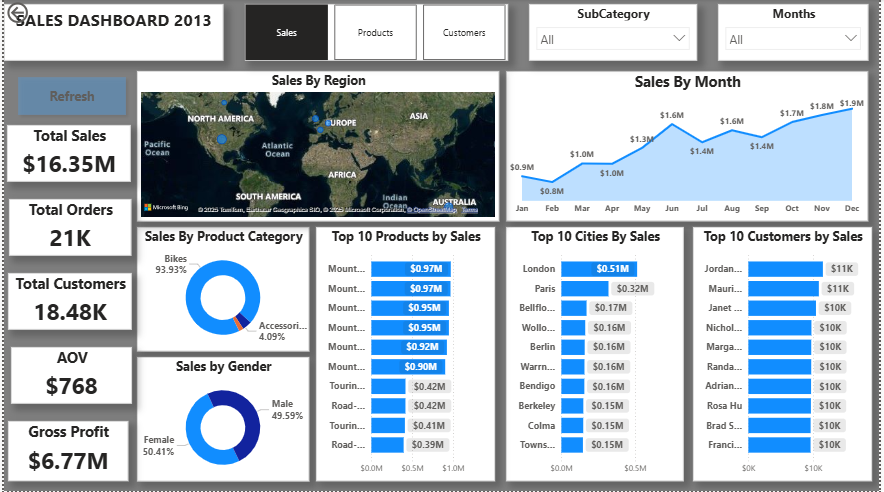

This screenshot's page, from the dashboard's own definition file:
{"tool":"powerbi","page":{"name":"Sales","canvas":[1280,720],"ordinal":0},"visuals":[{"type":"textbox","box":[0,7.4,321.5,83.3],"z":0},{"type":"areaChart","title":"Sales By Month","fields":{"Y":["FinancialCategories.Total Sales"],"Category":["DimDateCleaned.MonthShort"]},"box":[735.3,105.7,530,220],"z":1000},{"type":"donutChart","title":"Sales By Product Category","fields":{"Category":["Dimproductcleaned.ProductCategory"],"Y":["FinancialCategories.Total Sales"]},"box":[195,333.4,251.5,181.6],"z":2000},{"type":"barChart","title":"Top 10 Cities By Sales","fields":{"Category":["DimCustomerCleaned.City"],"Y":["FinancialCategories.Total Sales"]},"box":[735.3,333.4,260.5,372.1],"z":3000},{"type":"donutChart","title":"Sales by Gender","fields":{"Category":["DimCustomerCleaned.Gender"],"Y":["FinancialCategories.Total Sales"]},"box":[195,523.9,251.5,181.6],"z":4000},{"type":"map","title":"Sales By Region","fields":{"Size":["FinancialCategories.Total Sales"],"Category":["DimCustomerCleaned.Region"]},"box":[195,105.7,529.9,220.3],"z":5000},{"type":"barChart","title":"Top 10 Customers by Sales","fields":{"Y":["FinancialCategories.Total Sales"],"Category":["DimCustomerCleaned.Name"]},"box":[1007.6,333.4,262,372.1],"z":6000},{"type":"barChart","title":"Top 10 Products by Sales","fields":{"Y":["FinancialCategories.Total Sales"],"Category":["Dimproductcleaned.ProductName"]},"box":[456.9,333.4,262,372.1],"z":7000},{"type":"card","title":"Total Sales","fields":{"Values":["FinancialCategories.Total Sales"]},"box":[4.4,184.4,181.5,83.4],"z":8000},{"type":"card","title":"Total Orders","fields":{"Values":["FinancialCategories.Total Orders"]},"box":[7.3,292.7,178.5,83.4],"z":9000},{"type":"card","title":"Total Customers","fields":{"Values":["DimCustomerCleaned.Total customers"]},"box":[5.9,401,181.5,83.4],"z":10000},{"type":"card","title":"AOV","fields":{"Values":["FinancialCategories.AOV"]},"box":[10.2,509.3,177.1,83.4],"z":11000},{"type":"card","title":"Gross Profit","fields":{"Values":["FinancialCategories.Total Profit"]},"box":[5.9,617.6,175.6,87.8],"z":12000},{"type":"slicer","title":"SubCategory","fields":{"Values":["DimCustomerCleaned.Region"]},"box":[768.3,7.4,245.6,83.3],"z":13000},{"type":"slicer","title":"Months","fields":{"Values":["DimCustomerCleaned.City"]},"box":[1044.8,7.4,220.3,83.3],"z":14000},{"type":"actionButton","box":[0,0,100,40],"z":15000},{"type":"pageNavigator","box":[352.5,7.3,384.9,83.4],"z":16000},{"type":"actionButton","box":[11.7,105.4,175.6,73.2],"z":17000}]}

Visuals, with their boxes in screenshot pixels (x1, y1, x2, y2), scaled from the page's 1280x720 canvas onto the 884x492 screenshot:
textbox: box=[0, 5, 222, 62]
"Sales By Month" areaChart: box=[508, 72, 874, 223]
"Sales By Product Category" donutChart: box=[135, 228, 308, 352]
"Top 10 Cities By Sales" barChart: box=[508, 228, 688, 482]
"Sales by Gender" donutChart: box=[135, 358, 308, 482]
"Sales By Region" map: box=[135, 72, 501, 223]
"Top 10 Customers by Sales" barChart: box=[696, 228, 877, 482]
"Top 10 Products by Sales" barChart: box=[316, 228, 496, 482]
"Total Sales" card: box=[3, 126, 128, 183]
"Total Orders" card: box=[5, 200, 128, 257]
"Total Customers" card: box=[4, 274, 129, 331]
"AOV" card: box=[7, 348, 129, 405]
"Gross Profit" card: box=[4, 422, 125, 482]
"SubCategory" slicer: box=[531, 5, 700, 62]
"Months" slicer: box=[722, 5, 874, 62]
actionButton: box=[0, 0, 69, 27]
pageNavigator: box=[243, 5, 509, 62]
actionButton: box=[8, 72, 129, 122]
